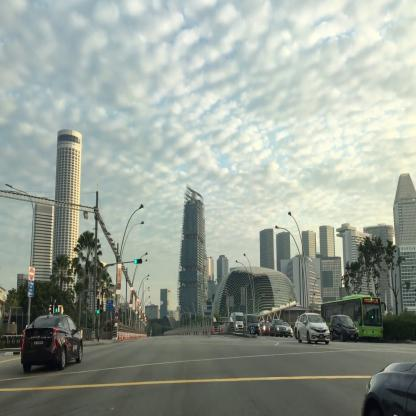green_traffic_light: (134, 258, 142, 264), (97, 298, 99, 314)
